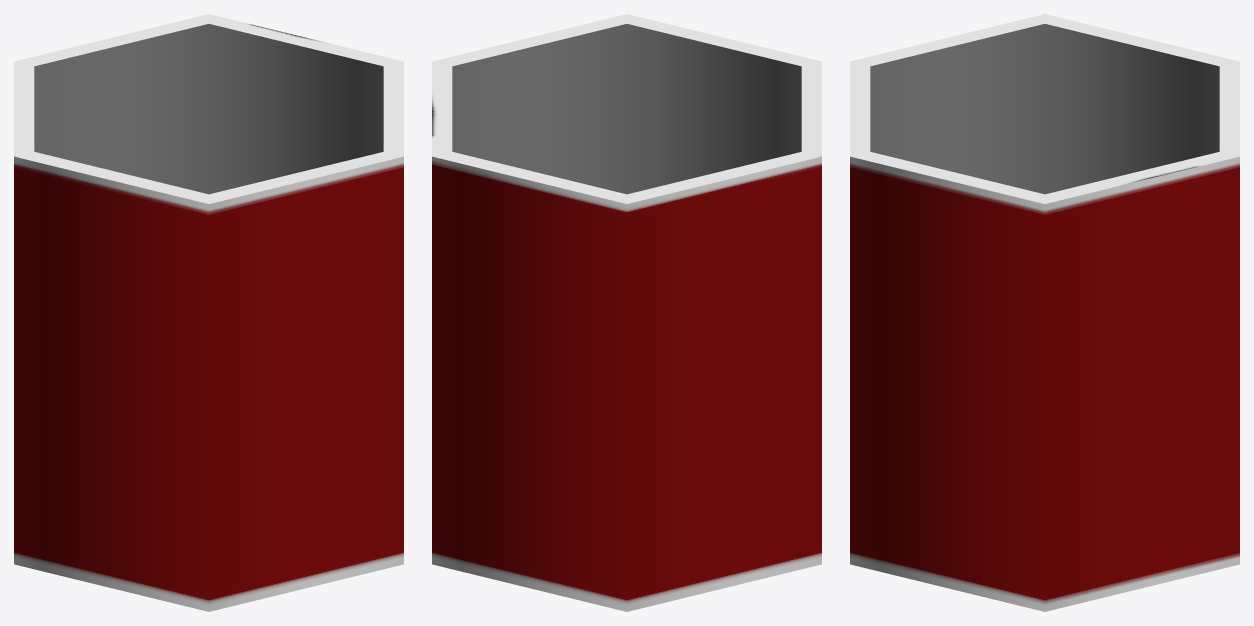
Rendered from Trash_Can01.fbx.
3 renders of one model, left to right at view 1: azimuth 30°, elevation 25°; view 2: azimuth 150°, elevation 25°; view 3: azimuth 270°, elevation 25°, orthographic.
Visible parts, largest first — view 1: Can01; view 2: Can01; view 3: Can01.
Boxes of the visible parts, bbox=[...] form: Can01: bbox=[14, 14, 403, 611]; Can01: bbox=[432, 14, 821, 611]; Can01: bbox=[850, 14, 1239, 611].
Bounding box in the file's own units: 2 × 2 × 1.73.
